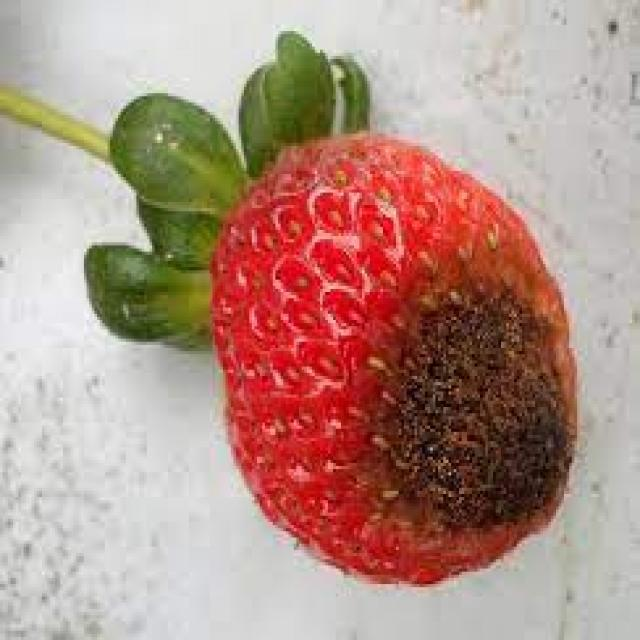Mancha negra Antracnosis: (170, 94, 578, 588)
